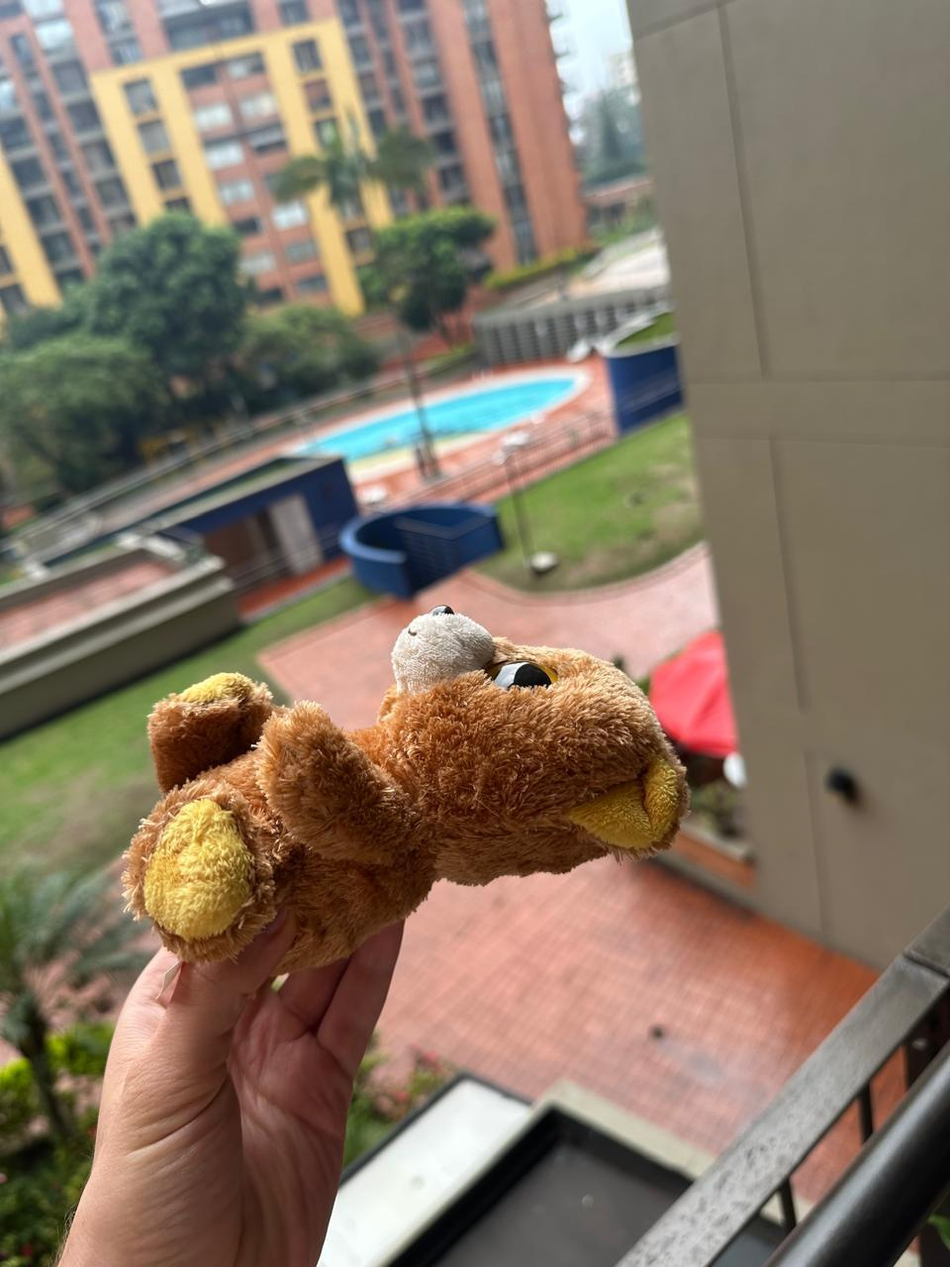peluche_sebastian: (136, 596, 688, 933)
